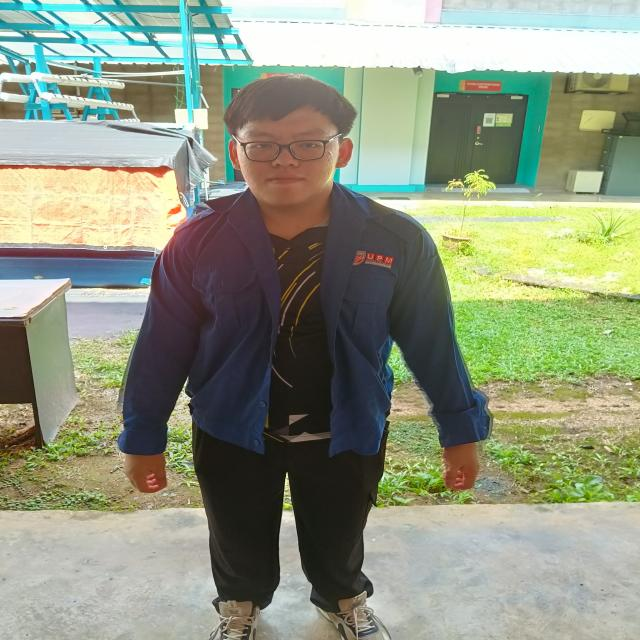person_with_labcoat: (119, 74, 491, 640)
